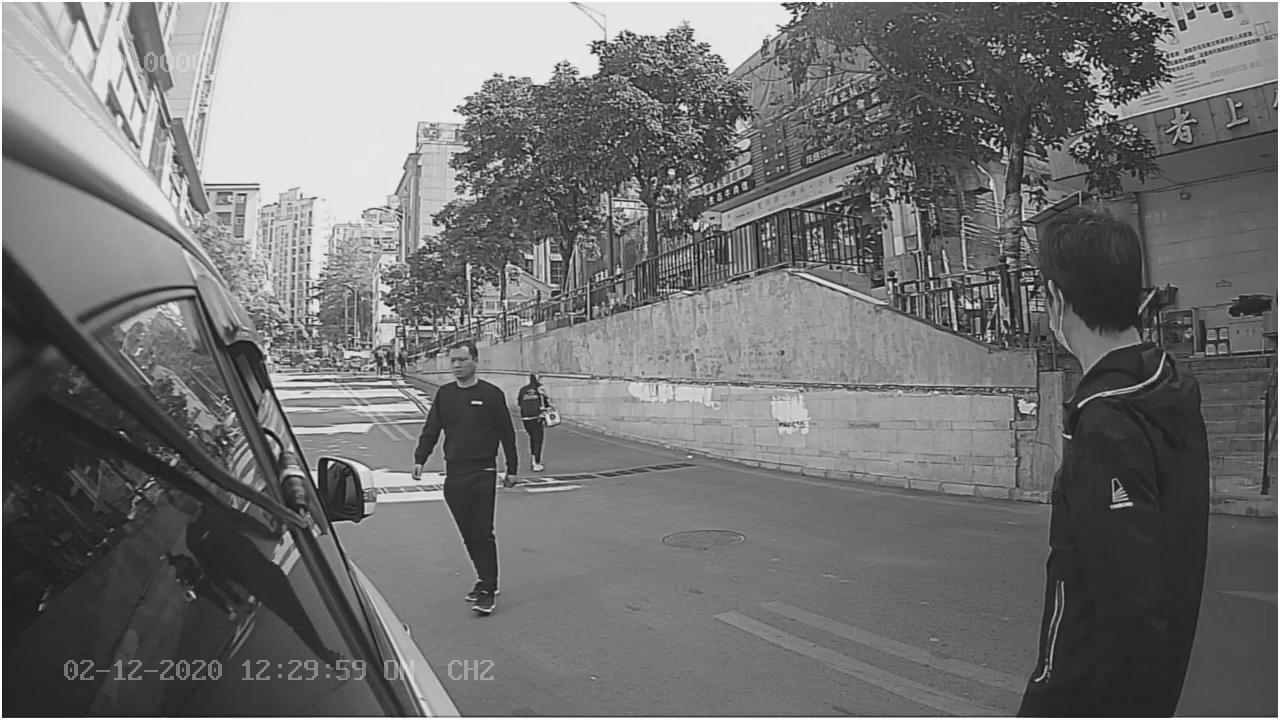person: (1011, 205, 1224, 567), (407, 329, 528, 619)
